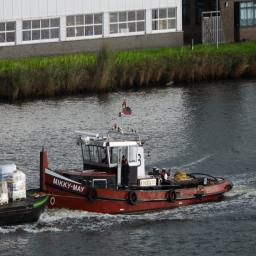tugboat: (37, 126, 235, 218)
